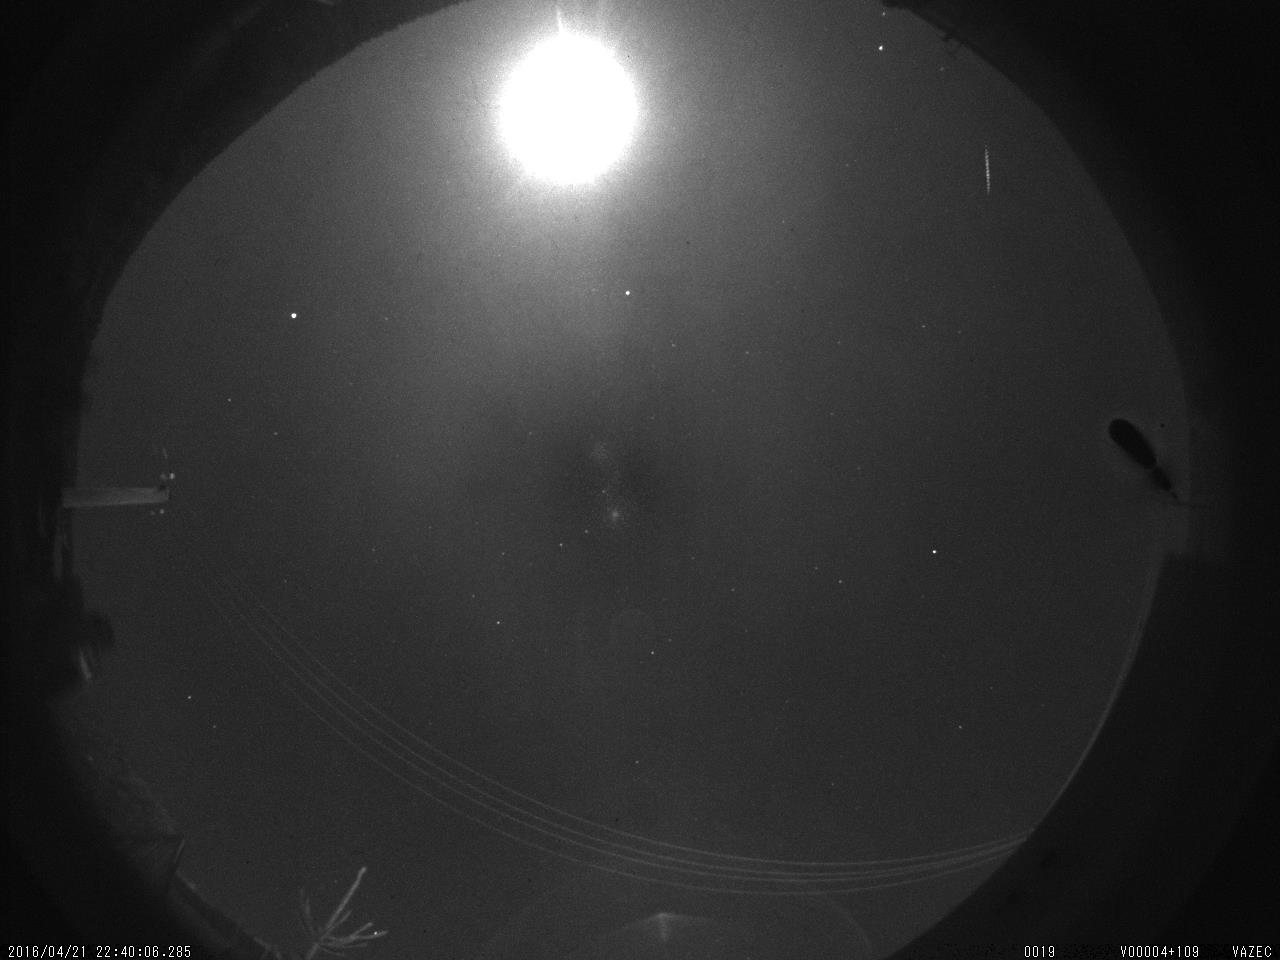meteor: (974, 133, 1007, 198)
